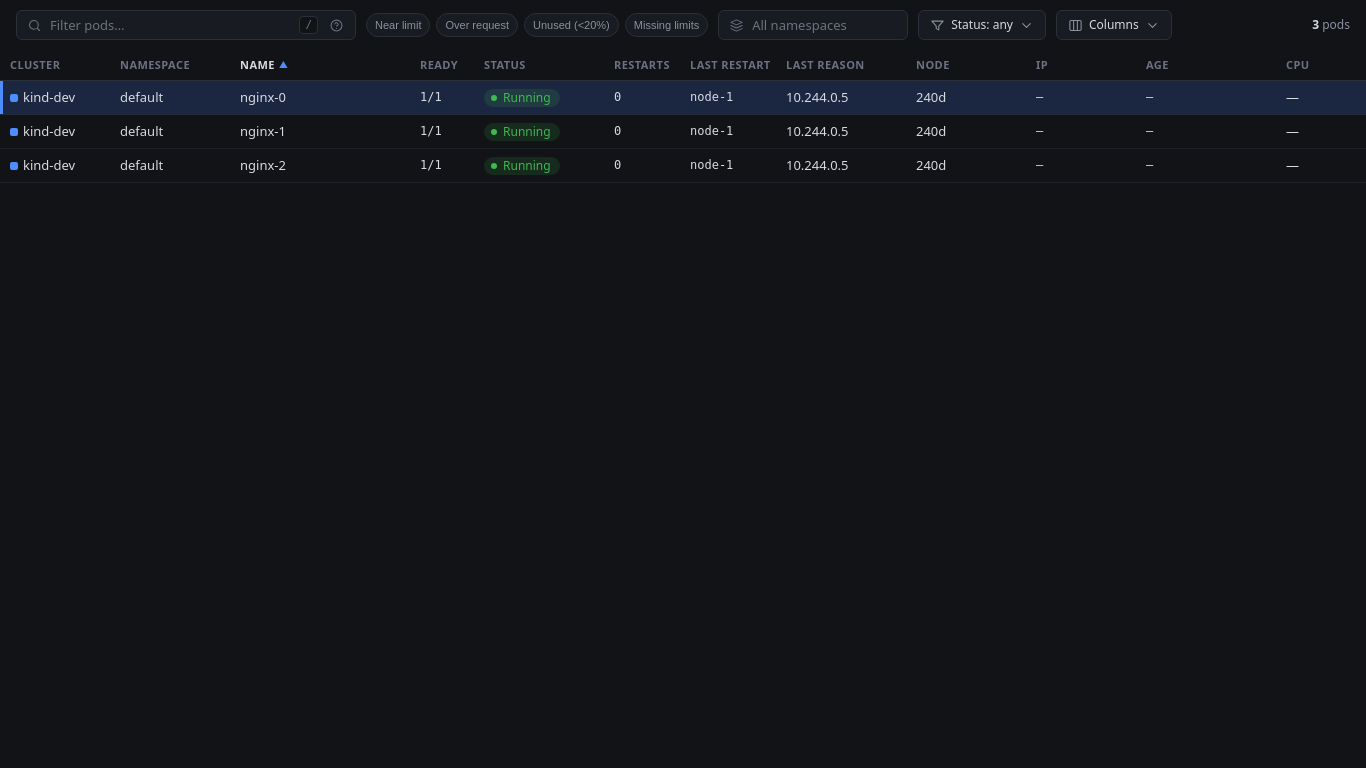
Scenario: R-07 ActionConfirmDialog mounted in PodTable and the palette › shows the backend's readOnlyContext error in the dialog
The width and height of the screenshot is (1366, 768).
Expected: the text "nginx-2" is shown, x1=240 y1=156 x2=286 y2=174
Click the text "nginx-0" at (683,98), box x1=0 y1=81 x2=1365 y2=115
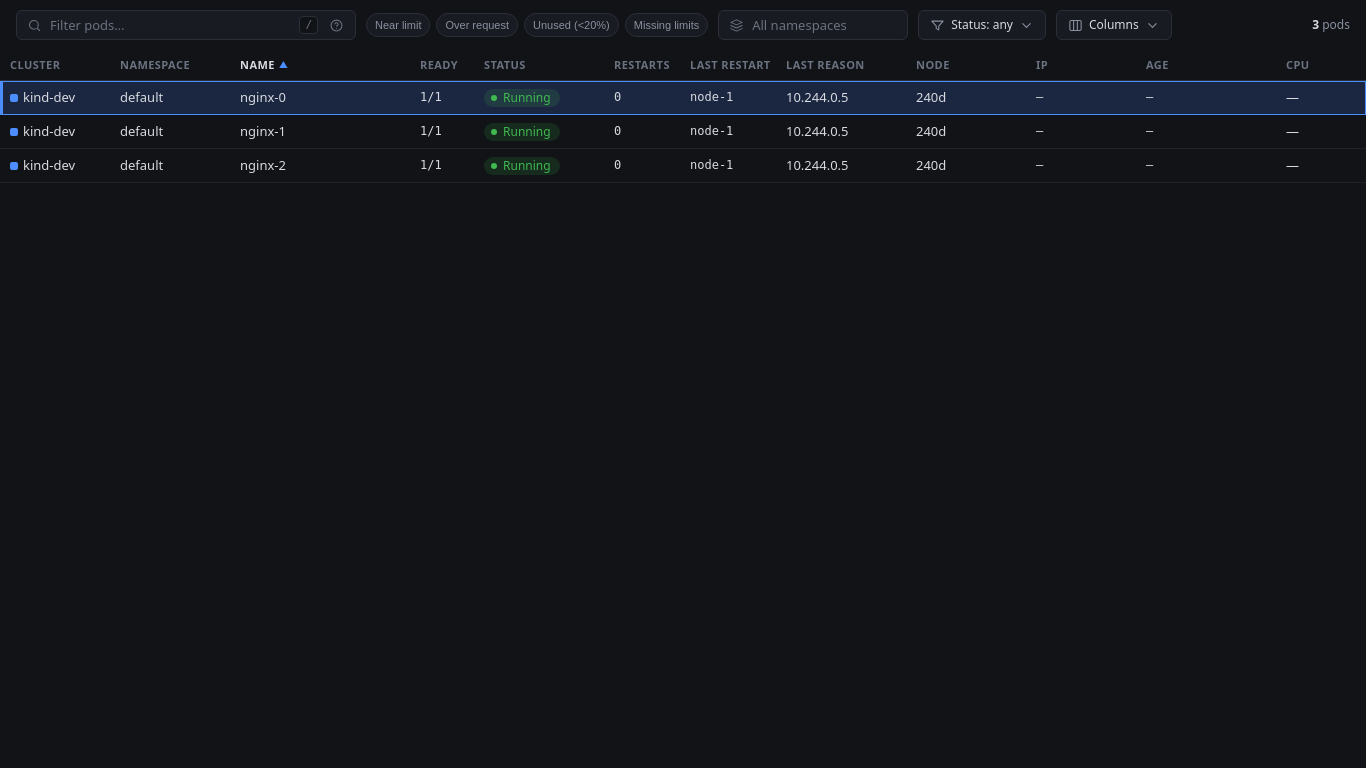
Type keys "{Control>}d{/Control}"
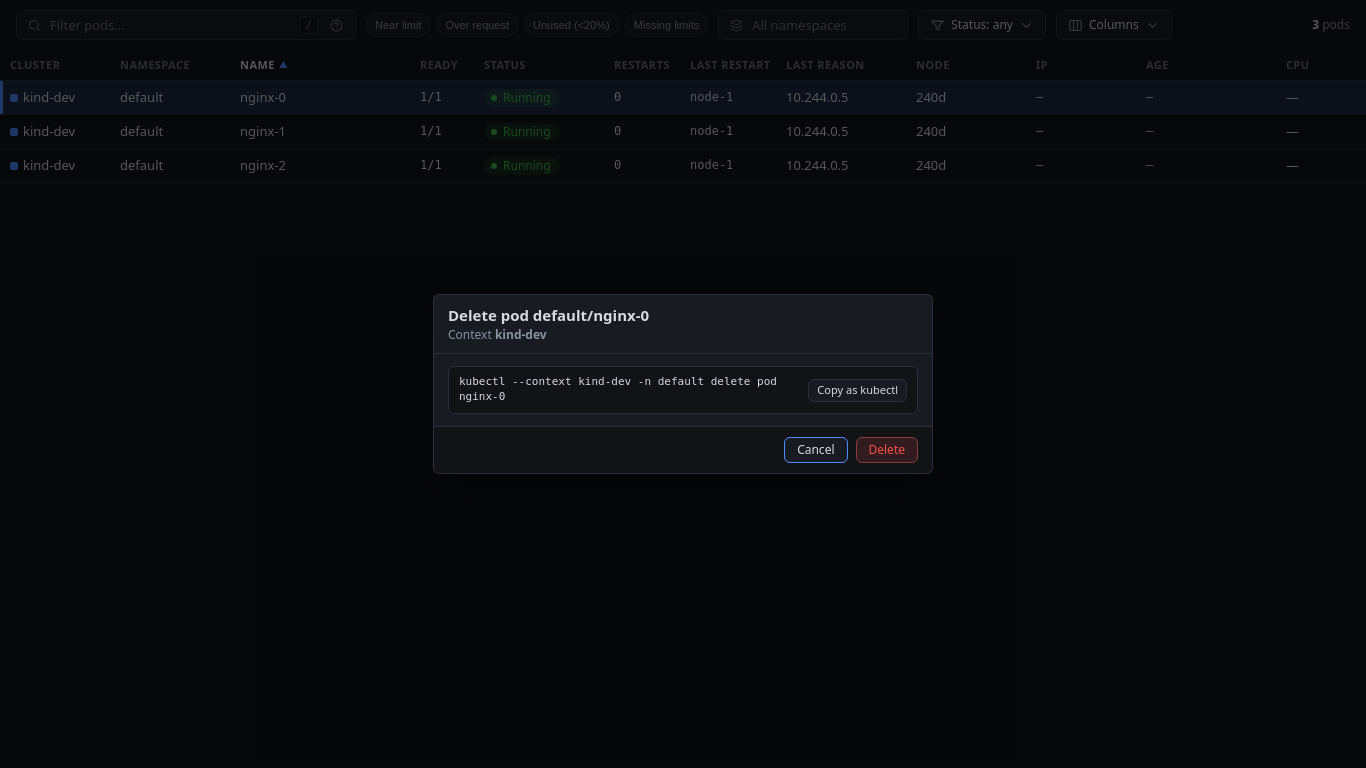
Now the button with test id "confirm-action-btn" is enabled
Click the button with test id "confirm-action-btn" at (887,450), box x1=856 y1=437 x2=918 y2=463
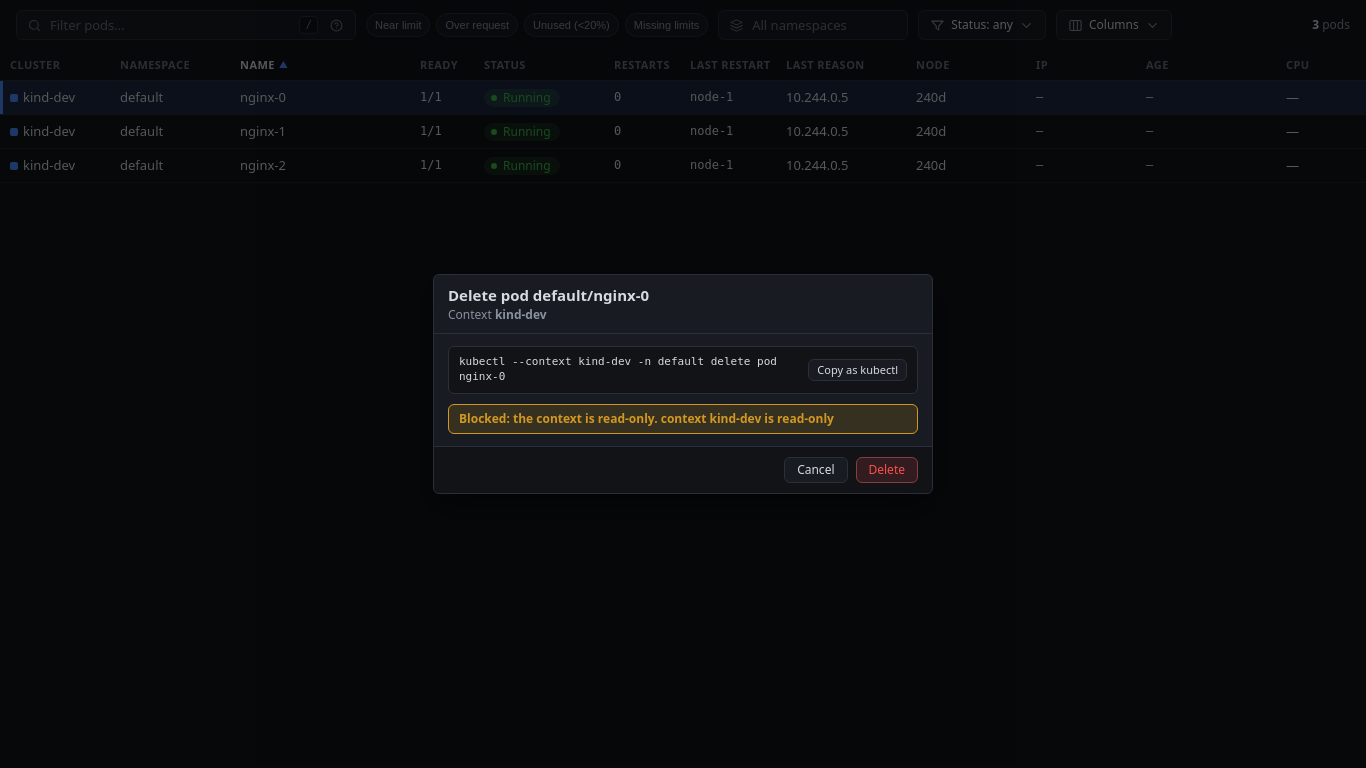
Now the dialog is shown, box x1=433 y1=274 x2=933 y2=494
Now the message with test id "action-error" shows "Blocked: the context is read-only.", box x1=459 y1=410 x2=834 y2=427
Now the message with test id "action-error" shows "context kind-dev is read-only", box x1=459 y1=410 x2=834 y2=427
